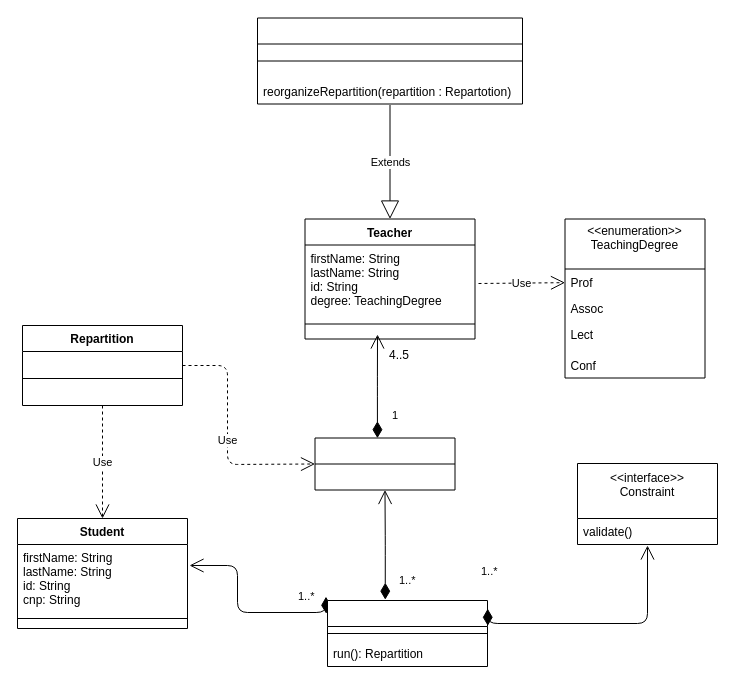
Image size: 735x686. Some labels were removed from this diagram. Here are the shapes that lost their labels. From the top down, the box of each, then its label:
(256, 17, 522, 104): Secretary
(314, 437, 455, 490): Comitee
(326, 600, 488, 666): DistributionAlgorithm
